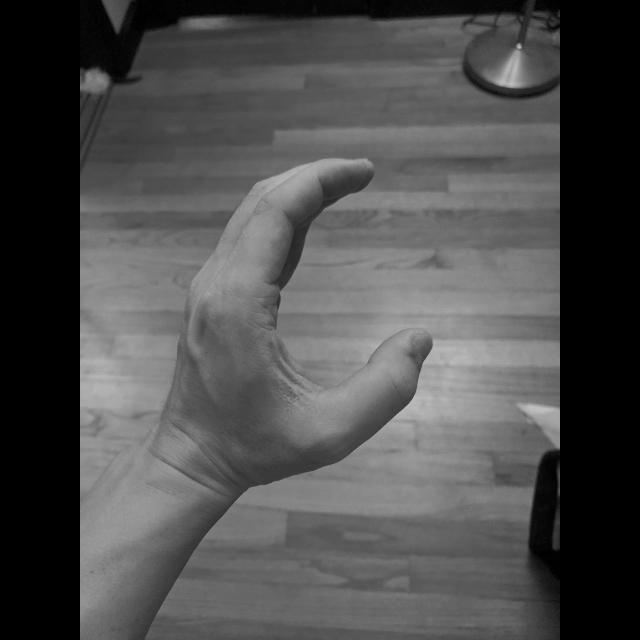C: (158, 152, 442, 494)
